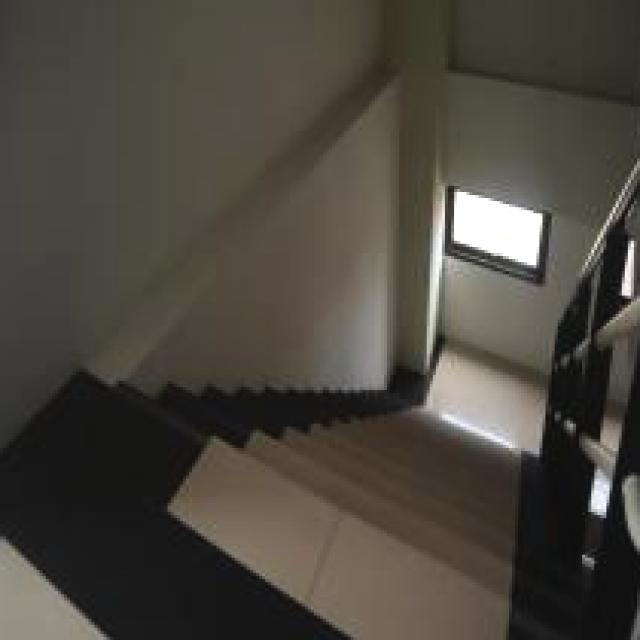downstair: (196, 382, 531, 640)
